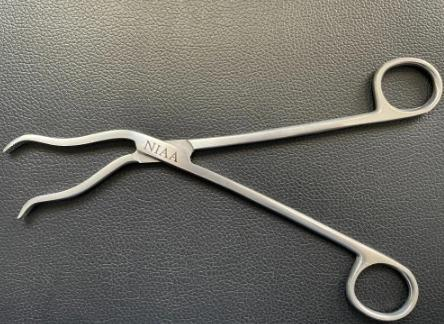Cheatle Forceps: (5, 53, 441, 323)
